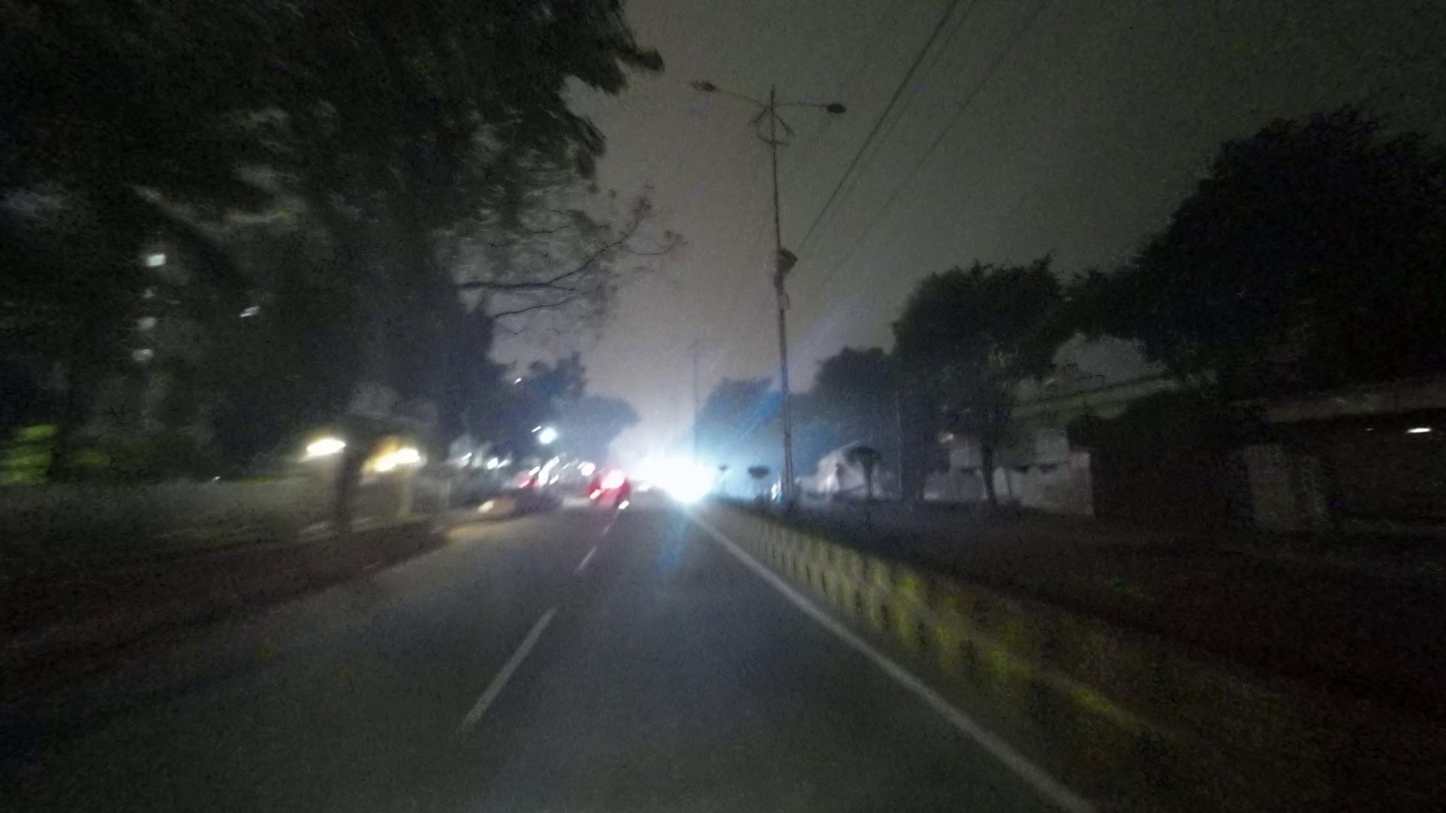streetlight: (689, 76, 767, 106), (776, 95, 853, 117)
